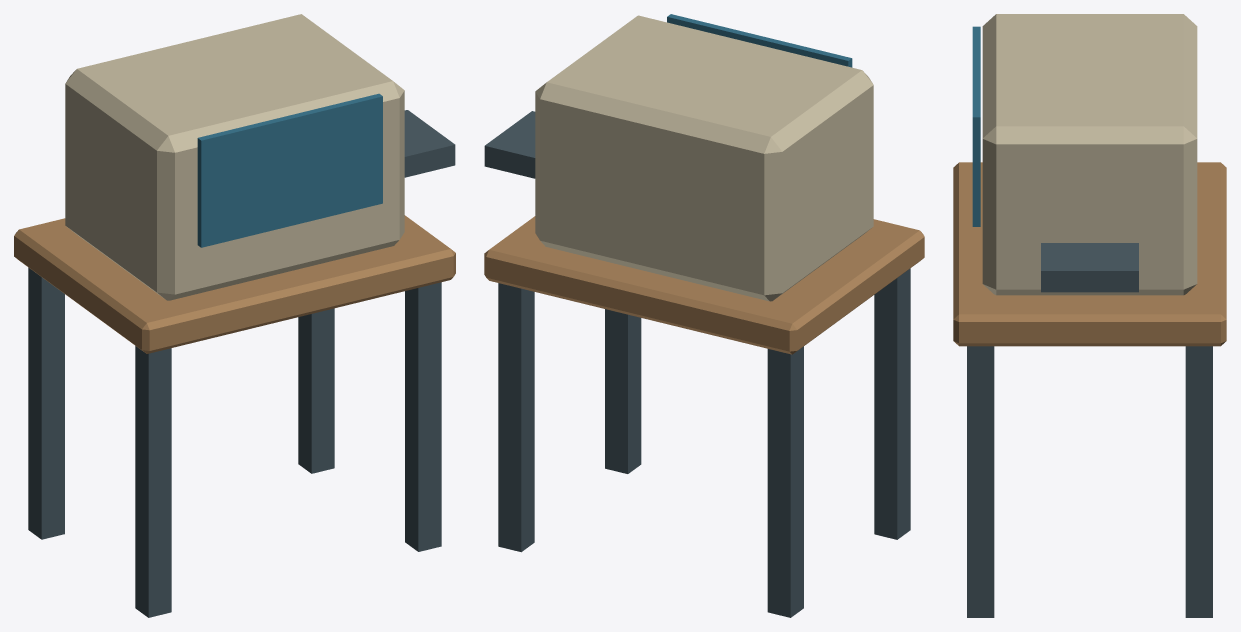
Rendered from scanner_station.glb.
3 views of the same model, side by side, from view 1: azimuth 30°, elevation 25°; view 2: azimuth 150°, elevation 25°; view 3: azimuth 270°, elevation 25° (orthographic). The views are drawn at different scales.
Visible parts, largest first — view 1: scanner_station; view 2: scanner_station; view 3: scanner_station.
Boxes of the visible parts, x1,y1,x2,y2 form: scanner_station: [14, 14, 455, 617]; scanner_station: [484, 14, 924, 617]; scanner_station: [953, 14, 1226, 617].
Size of the model in its own units: 1.07 by 1.34 by 0.7.
